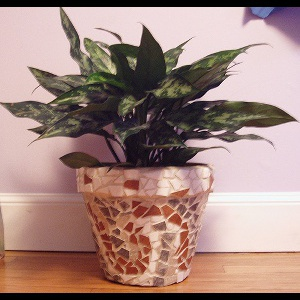flowerpot: (76, 160, 213, 286)
